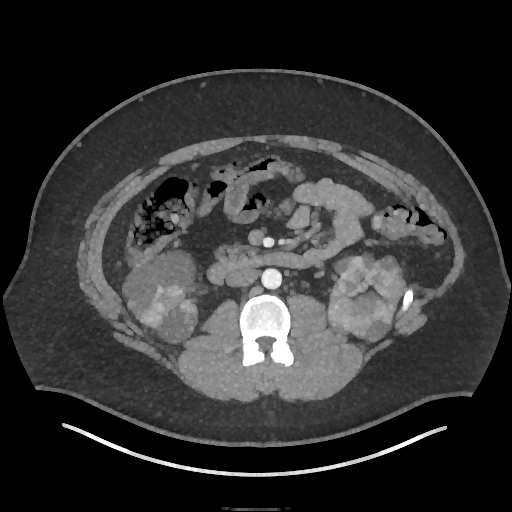Lesion: (143, 301, 166, 331)
